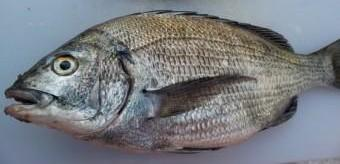fish: (3, 10, 339, 154)
